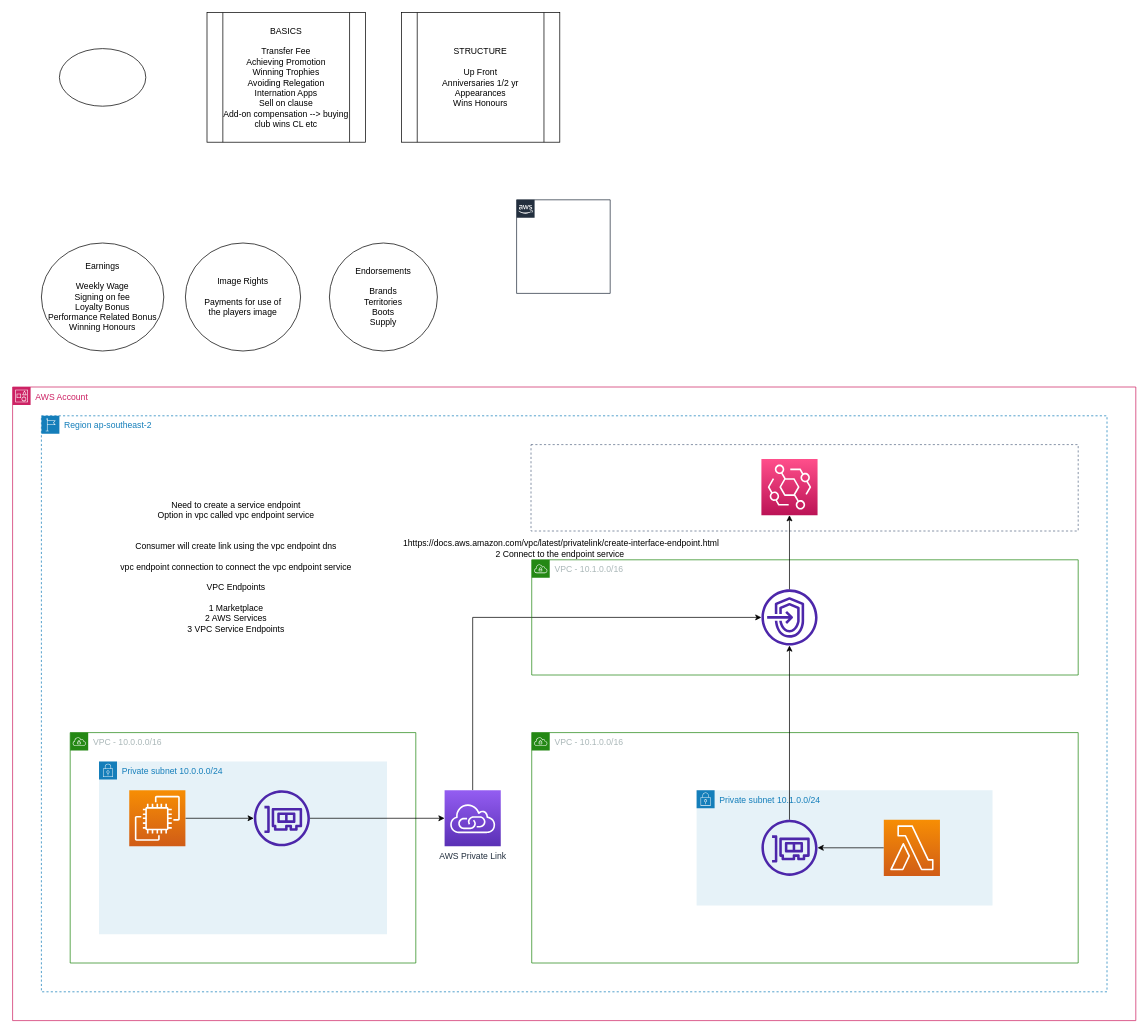
Image size: 1148x1033. Some labels were removed from this diagram. Here are the shapes that lost their labels. From the top down, the centre of each, then its label:
point 102,77: Transfer
point 563,246: AWS Cloud
point 789,617: Endpoint Service VPCE-SVC-1234
point 157,817: Private IP: 10.0.0.5
point 281,818: VPC Endpoint Network Interface Private IP: 10.0.0.6
point 789,847: VPC ENI
